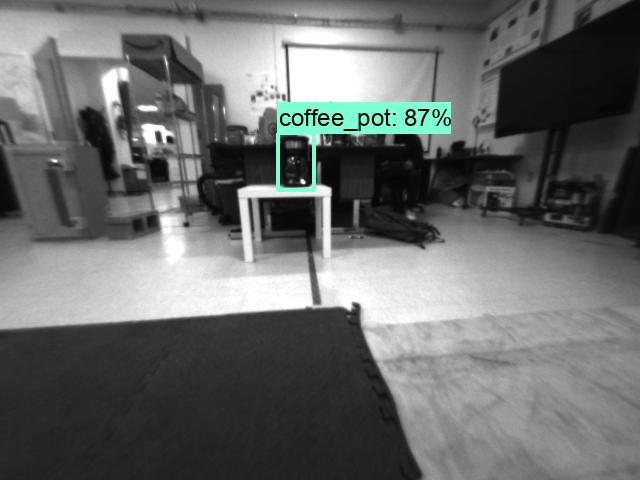coffee_pot: (275, 132, 315, 192)
